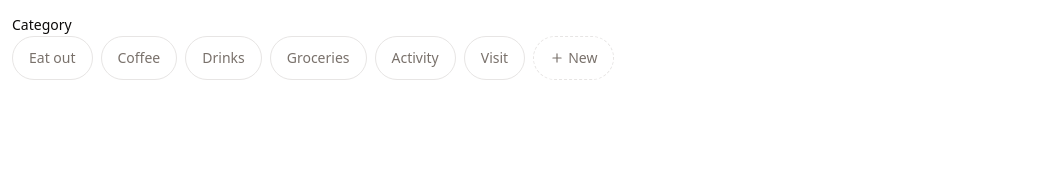
Test: ChipPicker › takes a new value from "+ New"
Click the button with aria-label "New category" at (574, 58), box x1=533 y1=36 x2=614 y2=80
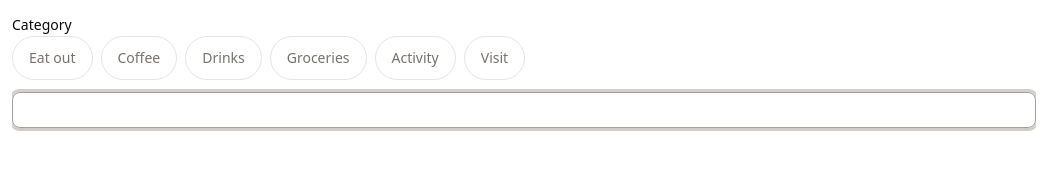
Type "Picnic" into the field named "New category" at (524, 110), box x1=12 y1=92 x2=1036 y2=128
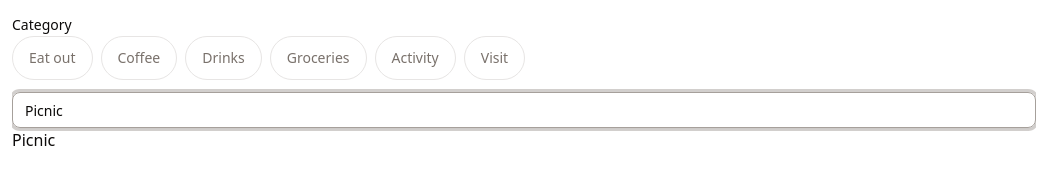
Check: the text with test id "value" reads "Picnic", box x1=12 y1=129 x2=55 y2=151
